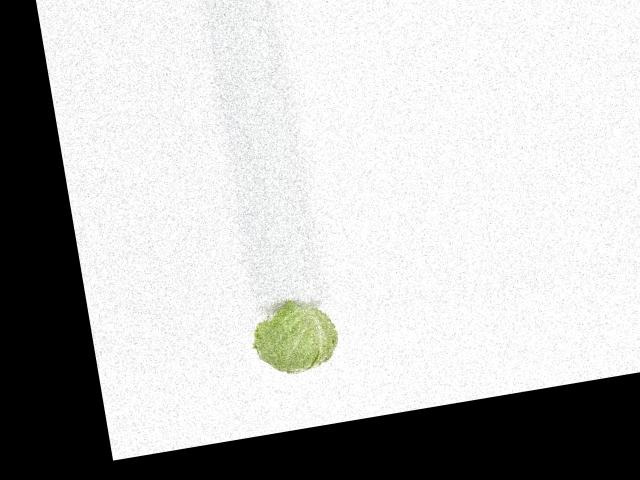lettuce: (246, 302, 348, 380)
